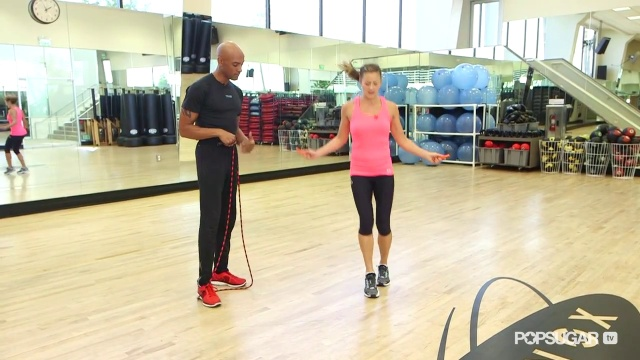person: (309, 63, 445, 292), (173, 38, 255, 309), (2, 99, 31, 176)
